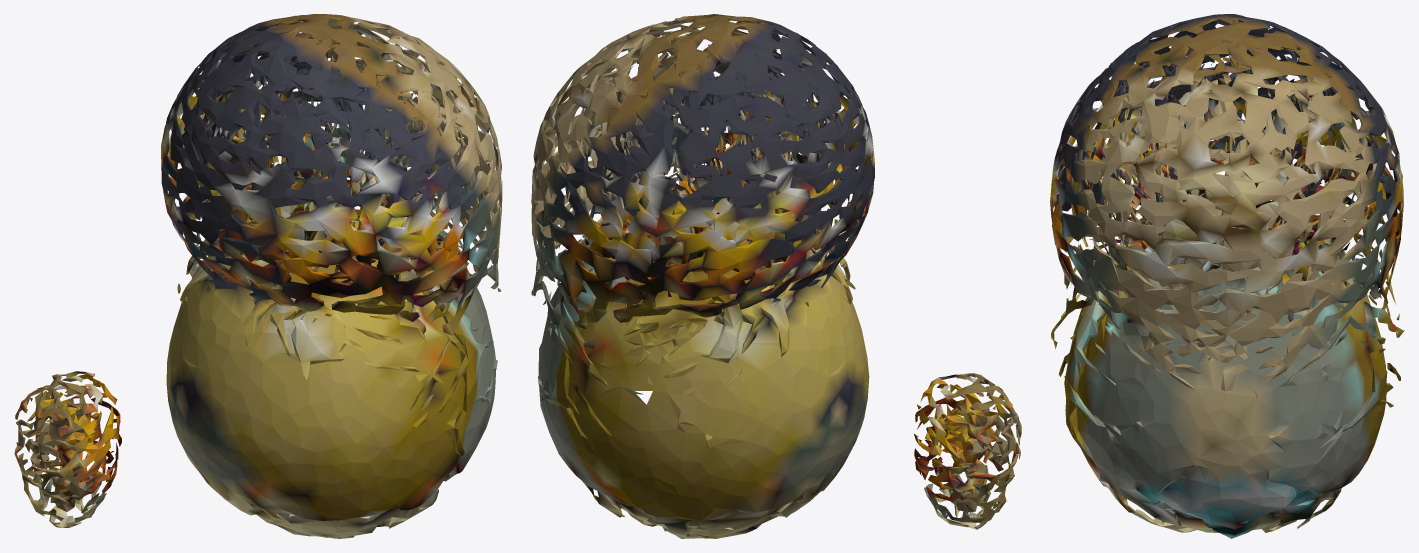
File: deathKnight.glb
3 views of the same model, side by side, from view 1: azimuth 30°, elevation 25°; view 2: azimuth 150°, elevation 25°; view 3: azimuth 270°, elevation 25° (orthographic).
Visible parts, largest first — view 1: world; view 2: world; view 3: world.
Boxes of the visible parts, x1,y1,x2,y2 form: world: [14, 14, 502, 538]; world: [531, 14, 1021, 538]; world: [1050, 14, 1404, 538].
Size of the model in its own units: 0.9776 by 1 by 0.662.
